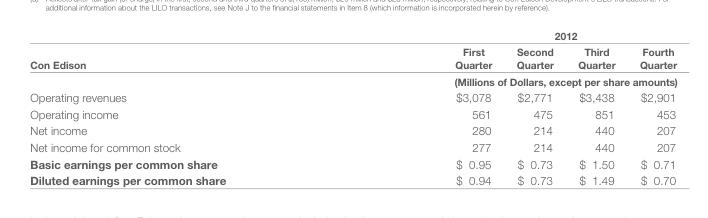table: (29, 28, 676, 186)
table column: (29, 28, 339, 186), (339, 28, 503, 186), (503, 28, 565, 186), (565, 28, 626, 186), (626, 28, 676, 186)
table column header: (29, 28, 676, 88)
table row: (29, 43, 676, 72), (29, 88, 676, 105), (29, 121, 676, 138), (29, 154, 676, 171), (29, 72, 676, 88), (29, 105, 676, 121), (29, 138, 676, 154), (29, 28, 676, 43), (29, 171, 676, 186)
table spanning cell: (29, 28, 339, 88), (339, 72, 676, 88), (339, 28, 676, 43)
